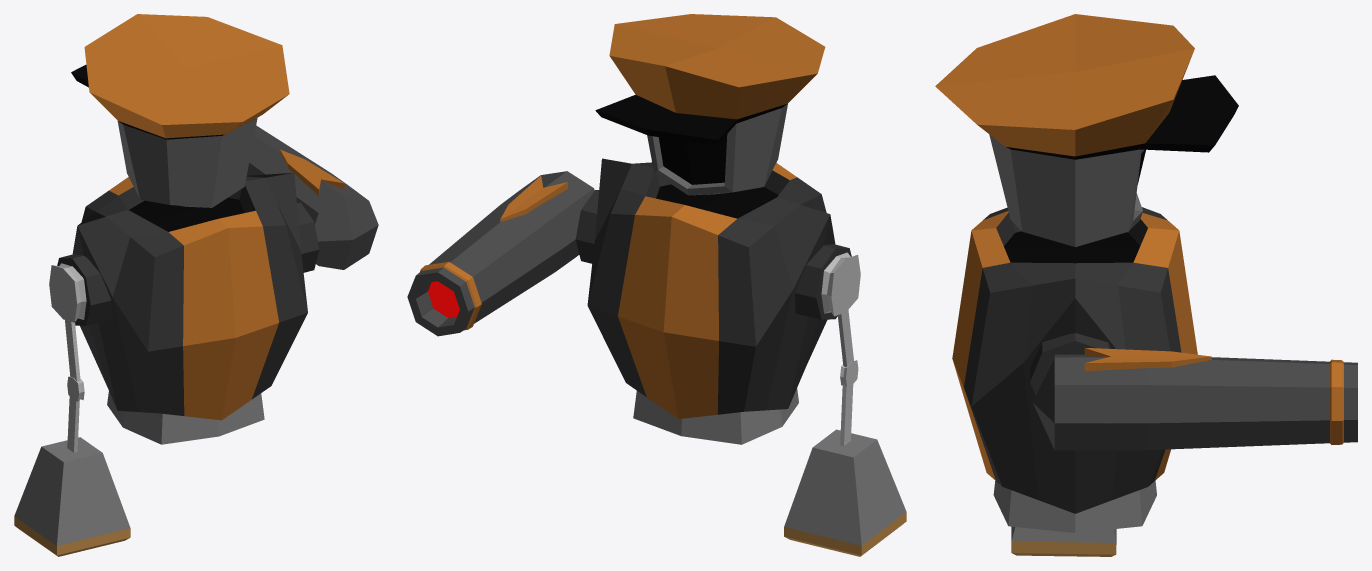
File: PraedatumSecurityGuard.glb
3 views of the same model, side by side, from view 1: azimuth 30°, elevation 25°; view 2: azimuth 150°, elevation 25°; view 3: azimuth 270°, elevation 25° (orthographic). The views are drawn at different scales.
Parts seen in each view (by area): view 1: Body, Head, ArmHand, GunQuadSphere, Arm2, Arm, GunGreeble, Arm1, ArmFirstLength, ArmForearm; view 2: Body, Head, GunQuadSphere, ArmHand, Arm, Arm2, GunGreeble, Arm1, ArmForearm, ArmFirstLength; view 3: Body, Head, GunQuadSphere, ArmHand, GunGreeble, Arm1.
Part boxes in pixels (bbox=[...]): Body: bbox=[72, 172, 307, 444]; Head: bbox=[71, 14, 289, 207]; ArmHand: bbox=[14, 437, 130, 556]; GunQuadSphere: bbox=[247, 125, 378, 269]; Arm2: bbox=[57, 254, 112, 325]; Arm: bbox=[49, 263, 86, 322]; GunGreeble: bbox=[280, 149, 344, 195]; Arm1: bbox=[297, 202, 319, 272]; ArmFirstLength: bbox=[65, 320, 80, 381]; ArmForearm: bbox=[67, 397, 79, 452]; Body: bbox=[587, 158, 835, 444]; Head: bbox=[595, 14, 825, 195]; GunQuadSphere: bbox=[407, 171, 594, 336]; ArmHand: bbox=[784, 429, 906, 556]; Arm: bbox=[821, 252, 860, 316]; Arm2: bbox=[795, 244, 851, 319]; GunGreeble: bbox=[500, 175, 567, 221]; Arm1: bbox=[575, 190, 599, 263]; ArmForearm: bbox=[840, 383, 853, 446]; ArmFirstLength: bbox=[837, 310, 853, 366]; Body: bbox=[952, 207, 1197, 532]; Head: bbox=[935, 14, 1238, 247]; GunQuadSphere: bbox=[1032, 354, 1357, 450]; ArmHand: bbox=[1011, 526, 1116, 556]; GunGreeble: bbox=[1084, 348, 1211, 371]; Arm1: bbox=[1029, 333, 1111, 395].
Size of the model in its own units: 4.55 by 5.81 by 3.98.
